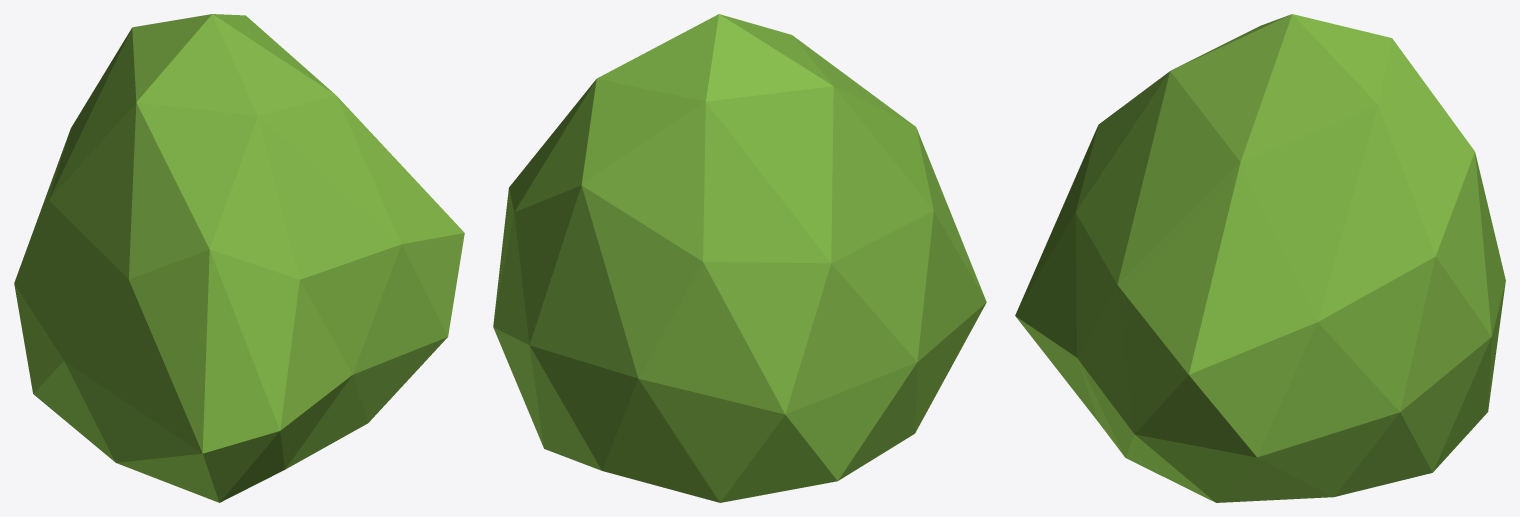
3 renders of one model, left to right at view 1: azimuth 30°, elevation 25°; view 2: azimuth 150°, elevation 25°; view 3: azimuth 270°, elevation 25°, orthographic. The views are drawn at different scales.
Parts seen in each view (by area): view 1: Bush1_1.001; view 2: Bush1_1.001; view 3: Bush1_1.001.
Boxes of the visible parts, box(x1,y1,x2,y2) form: Bush1_1.001: box(14, 14, 464, 502); Bush1_1.001: box(493, 14, 986, 502); Bush1_1.001: box(1015, 14, 1505, 502).
Size of the model in its own units: 129 by 131 by 136.
